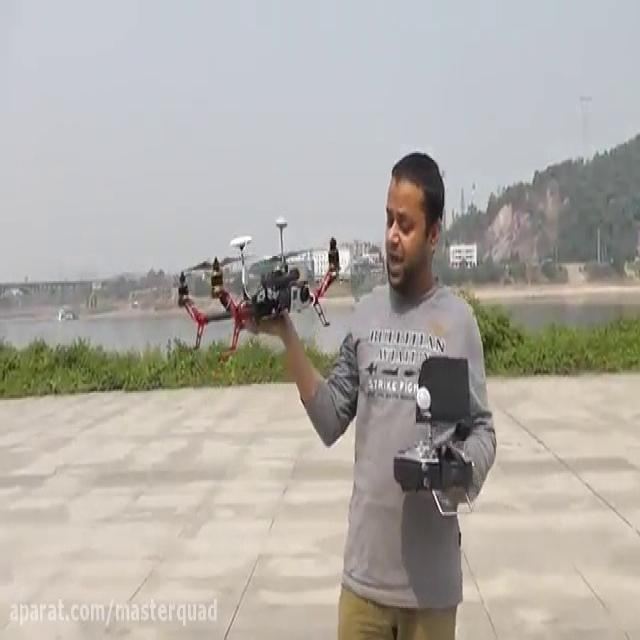drone: (173, 212, 346, 364)
